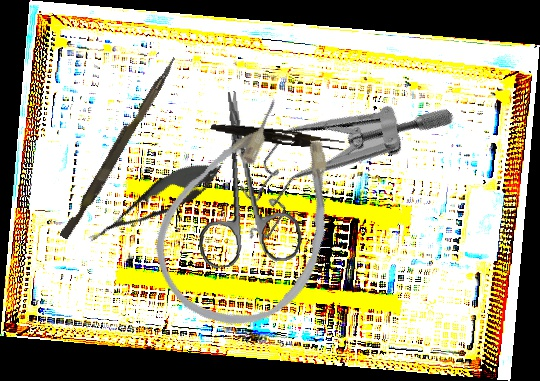Cannula: (130, 78, 378, 354)
Dressing Forceps: (209, 121, 346, 152)
Iris Scissors: (183, 85, 305, 270)
Micro Scissor: (79, 147, 231, 258)
Pusher: (59, 52, 178, 243)
Speculum: (215, 35, 458, 295)
